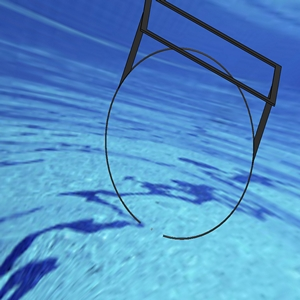circle: (102, 1, 282, 241)
